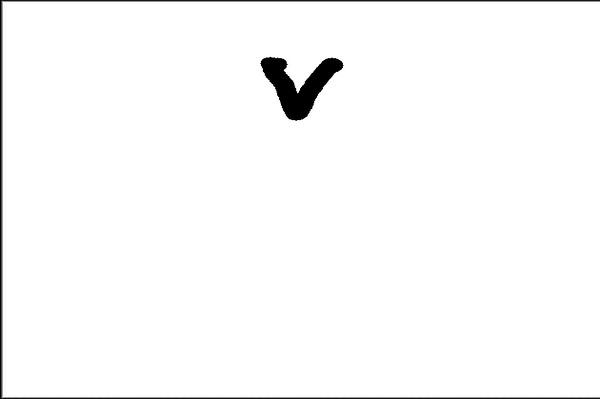V: (250, 45, 348, 125)
